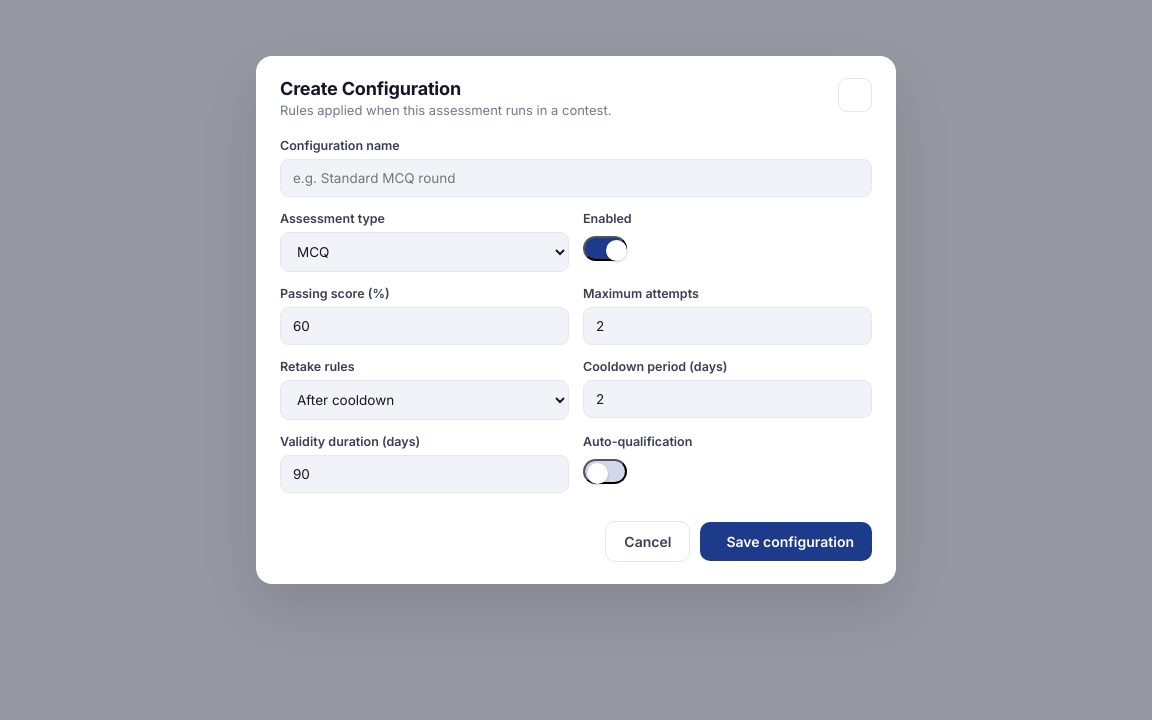
Test: EvalConfigModal › hides the threshold row until Auto-qualification is on
The width and height of the screenshot is (1152, 720).
Expected: the field labelled "Auto-qualify when score" is not shown
What coordinates should you click on to do the following:
click the switch named "Auto-qualification"
I would click on:
 (605, 472)
Its box is x1=583 y1=459 x2=627 y2=484.
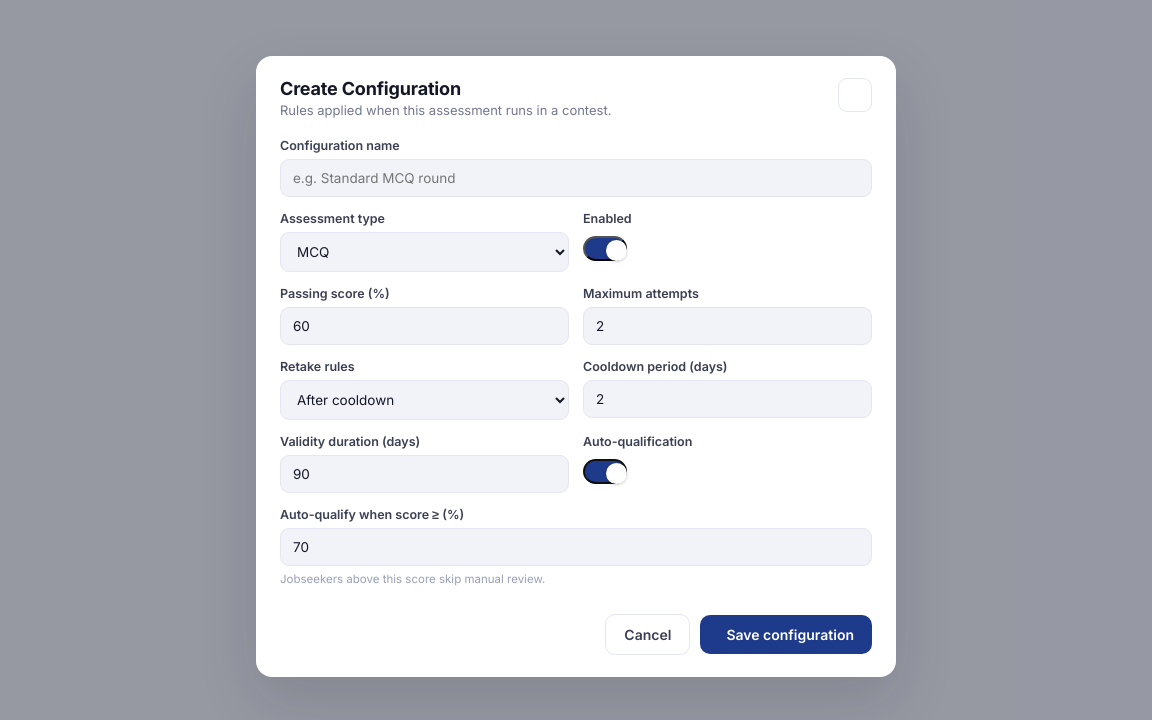
Expected: the number field labelled "Auto-qualify when score ≥ (%)" is shown, x1=280 y1=528 x2=872 y2=566
